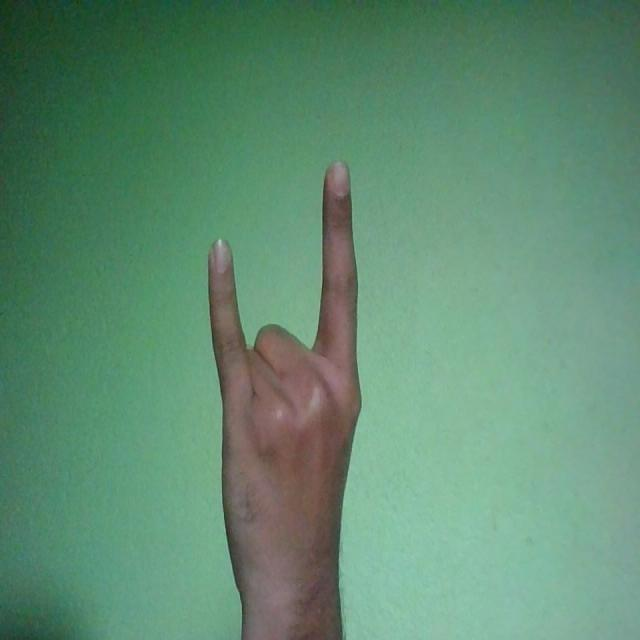open Plam: (208, 161, 362, 624)
